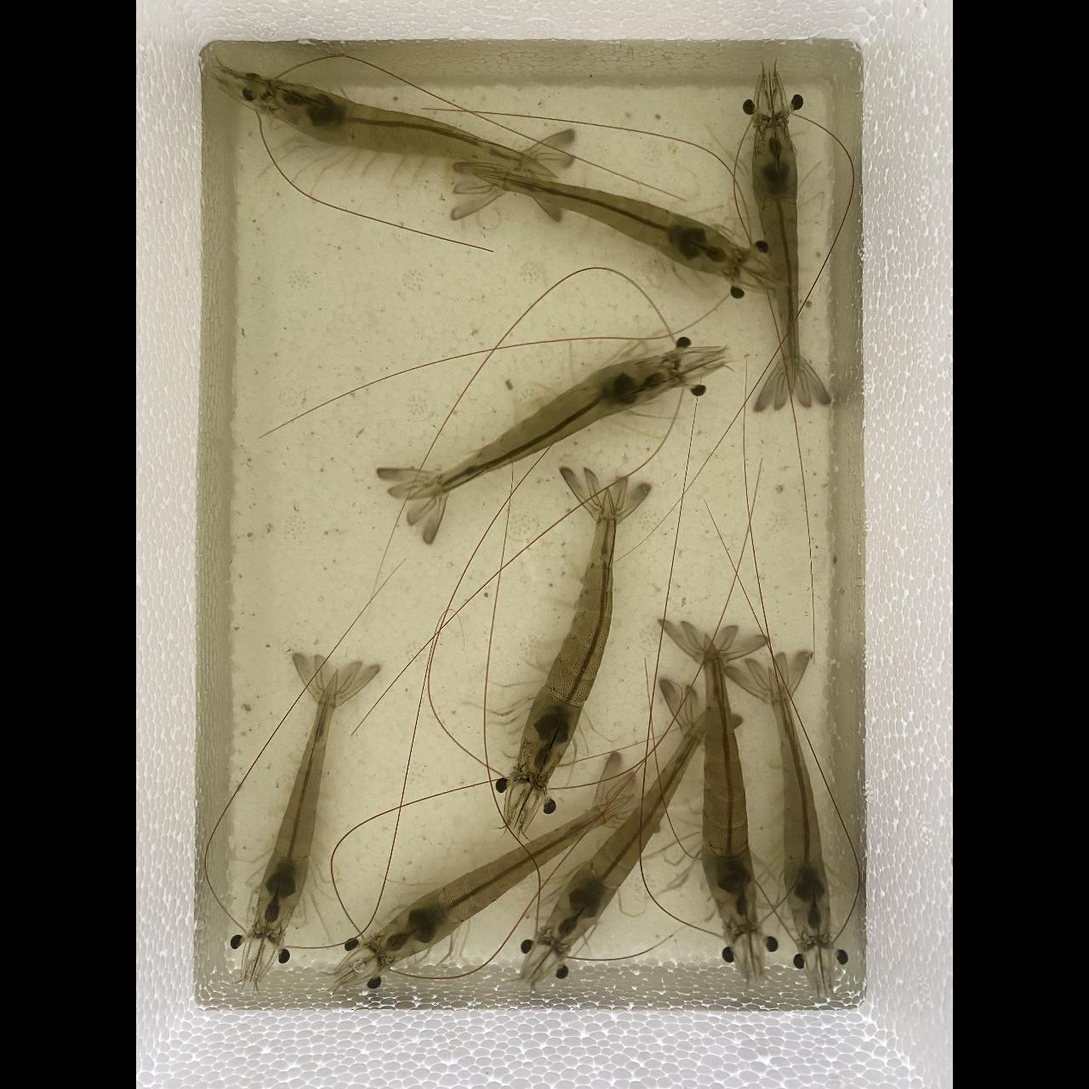top_shrimp: (378, 798, 616, 960), (546, 715, 708, 946), (412, 357, 676, 497), (466, 168, 740, 276), (517, 493, 616, 781), (267, 82, 534, 179), (255, 681, 332, 934), (774, 674, 829, 941), (704, 641, 754, 931), (752, 121, 798, 396)
